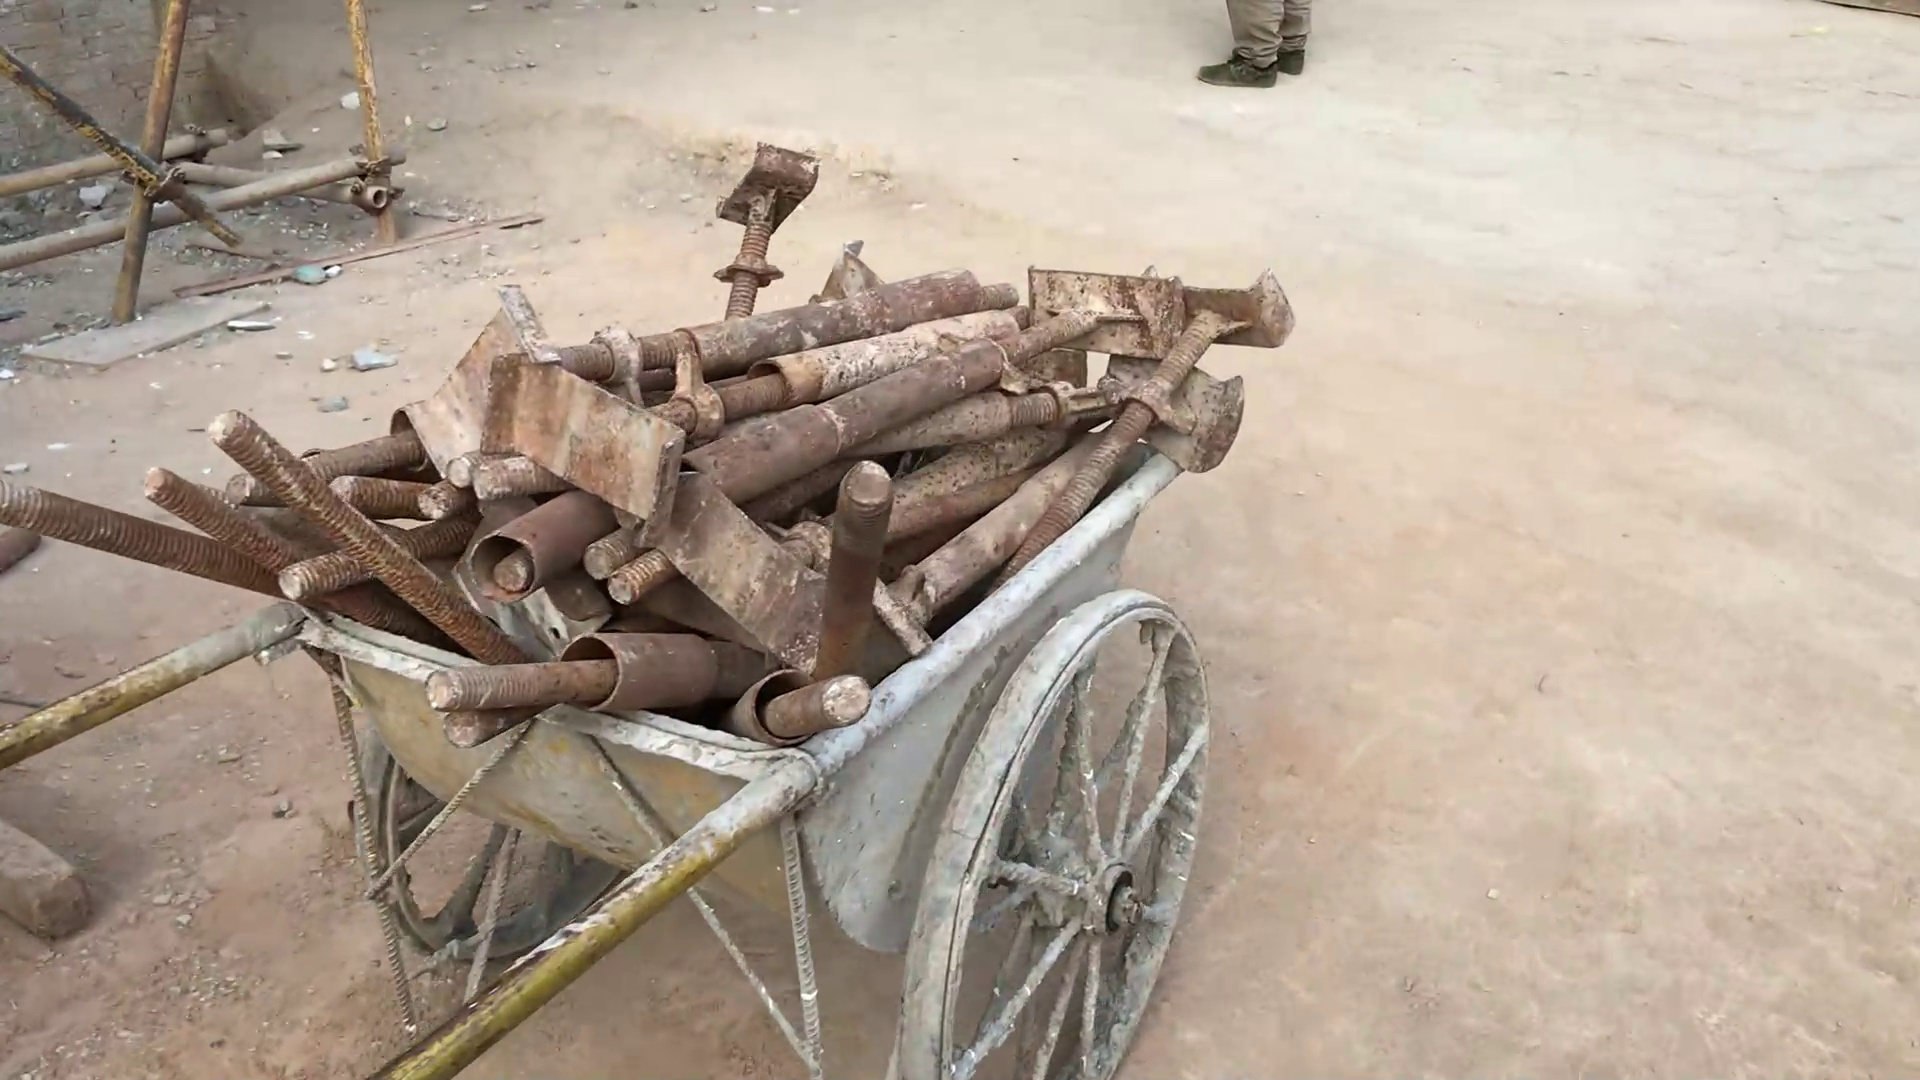handcart: (18, 450, 1222, 1080)
